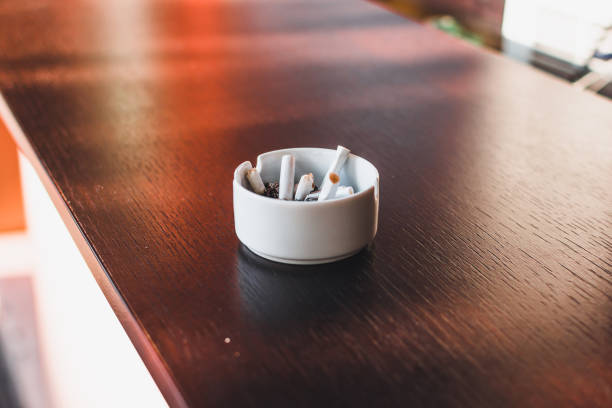cigarette: (278, 153, 297, 201), (242, 166, 268, 195), (328, 143, 351, 175), (318, 171, 342, 200), (293, 172, 315, 202), (335, 184, 356, 196)
